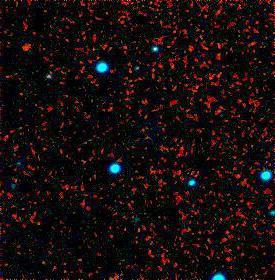star: (12, 31, 42, 61)
